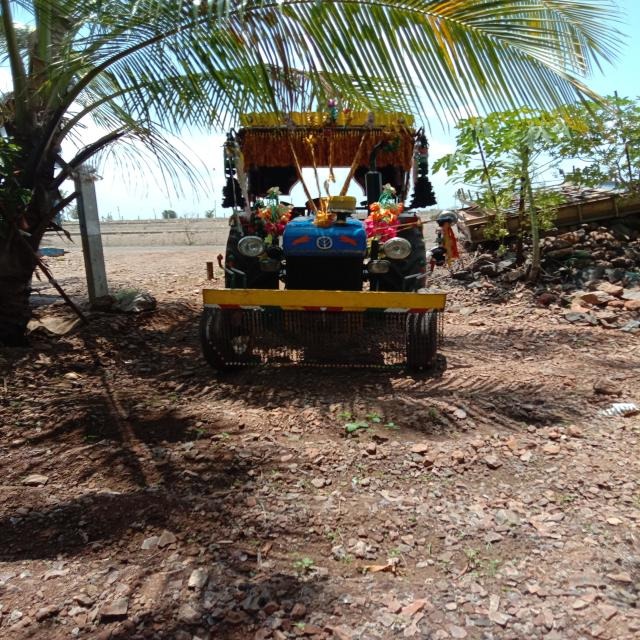Tractor: (210, 113, 471, 389)
